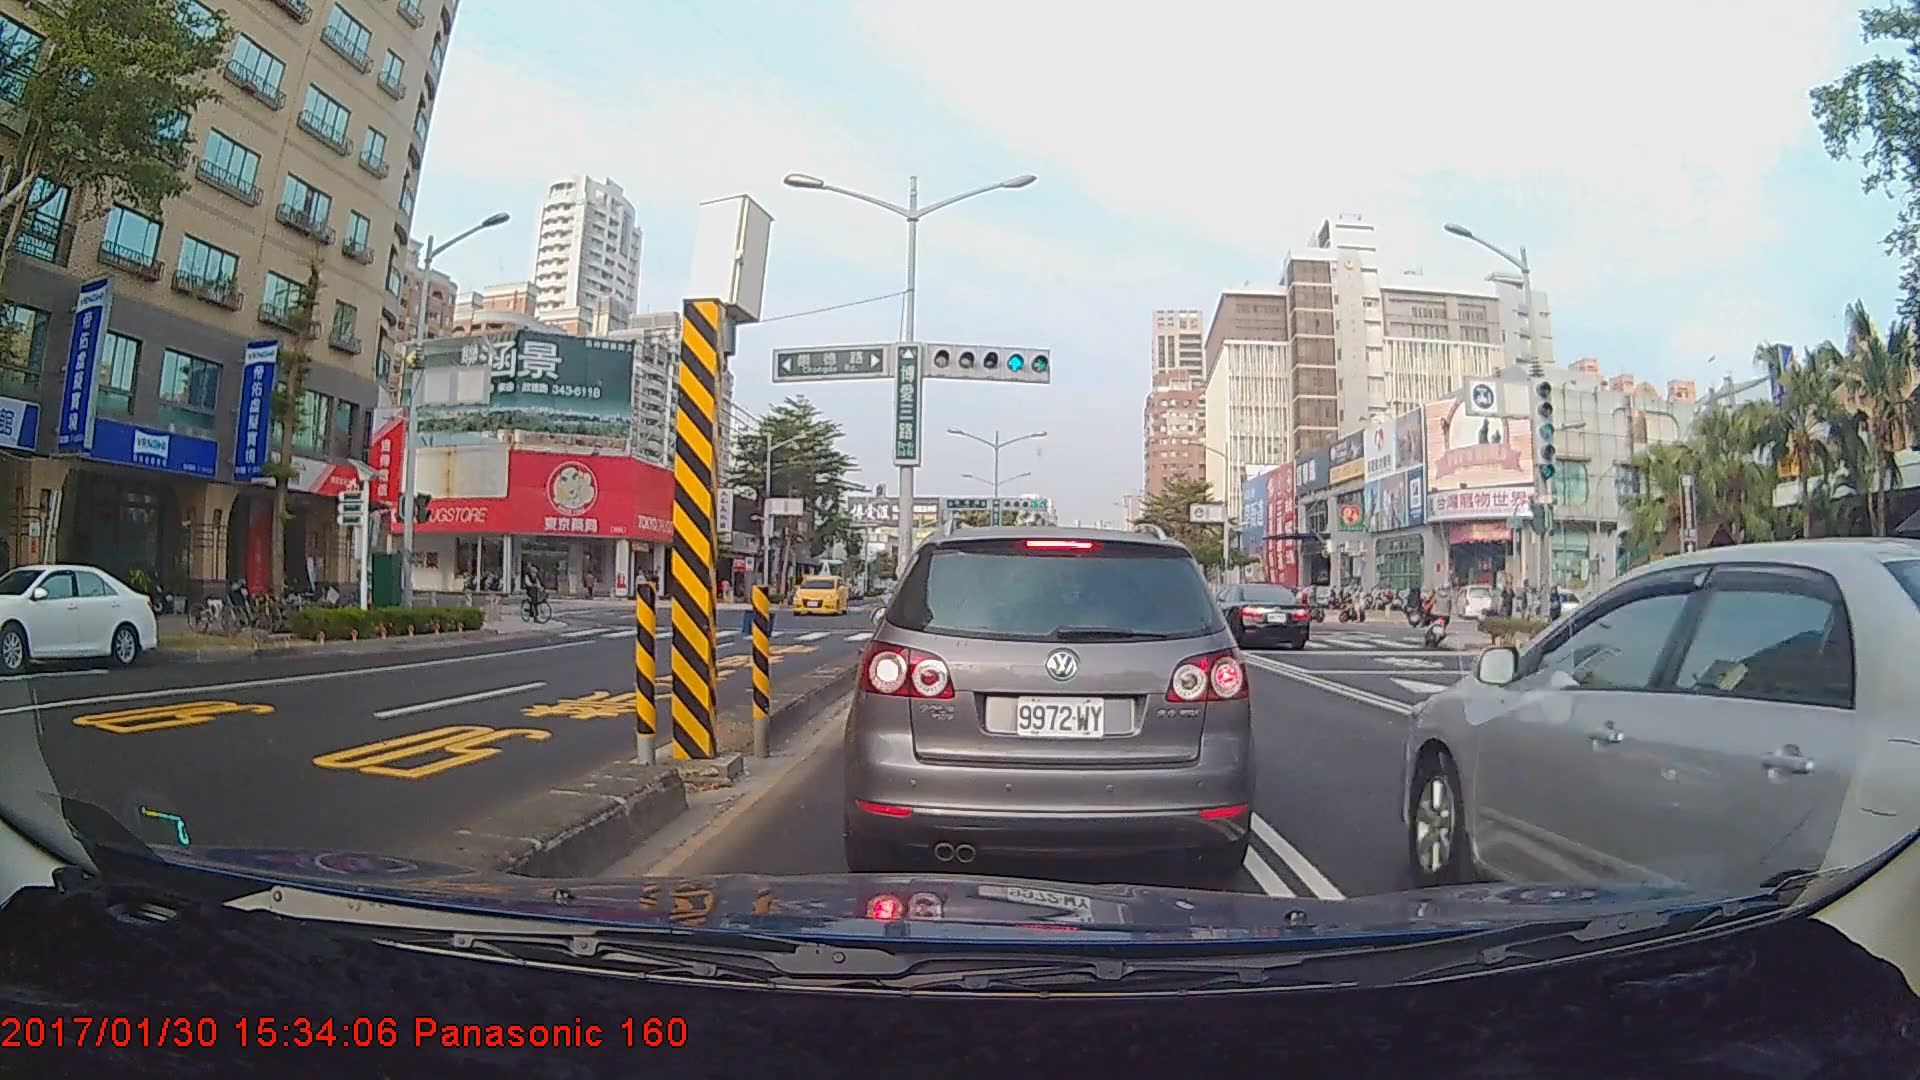rider: (518, 559, 561, 629), (1426, 580, 1458, 646)
vehicle: (1407, 540, 1920, 886), (854, 520, 1248, 876), (0, 561, 162, 671), (1196, 580, 1310, 650), (789, 574, 848, 615)
